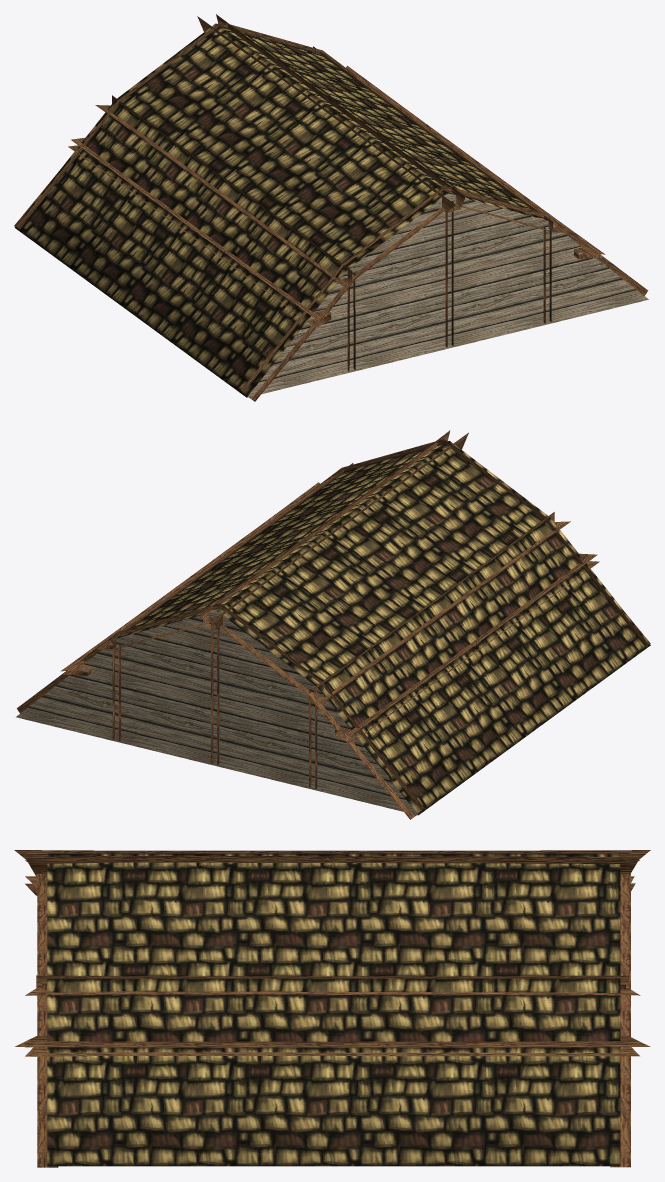
File: LAKETOWN_WAREHOUSE3_PS_WH3_ROOF2_383__GX.fbx
The picture shows the model from 3 angles, top to bottom: view 1: azimuth 30°, elevation 25°; view 2: azimuth 150°, elevation 25°; view 3: azimuth 270°, elevation 25°; orthographic projection. The views are drawn at different scales.
Visible parts, largest first — view 1: LAKETOWN_WAREHOUSE3_PS_WH3_ROOF2_383__GX; view 2: LAKETOWN_WAREHOUSE3_PS_WH3_ROOF2_383__GX; view 3: LAKETOWN_WAREHOUSE3_PS_WH3_ROOF2_383__GX.
Part boxes in pixels (left/top/right/bottom): LAKETOWN_WAREHOUSE3_PS_WH3_ROOF2_383__GX: left=14, top=14, right=648, bottom=401; LAKETOWN_WAREHOUSE3_PS_WH3_ROOF2_383__GX: left=16, top=430, right=650, bottom=819; LAKETOWN_WAREHOUSE3_PS_WH3_ROOF2_383__GX: left=14, top=850, right=650, bottom=1167.
Bounding box in the file's own units: 161440 × 61314 × 177021.
4 materials, 4 textured.
